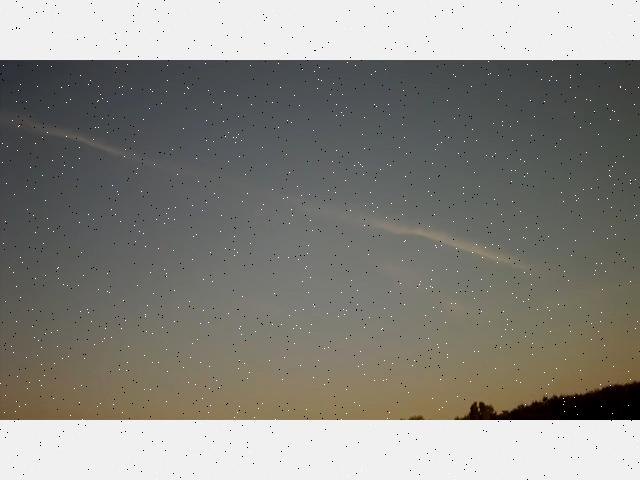Anti-Drone: (456, 287, 466, 296)
